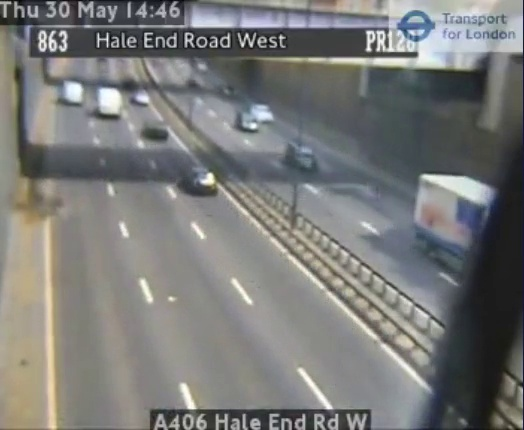car: (180, 167, 217, 193)
van: (97, 89, 122, 117)
